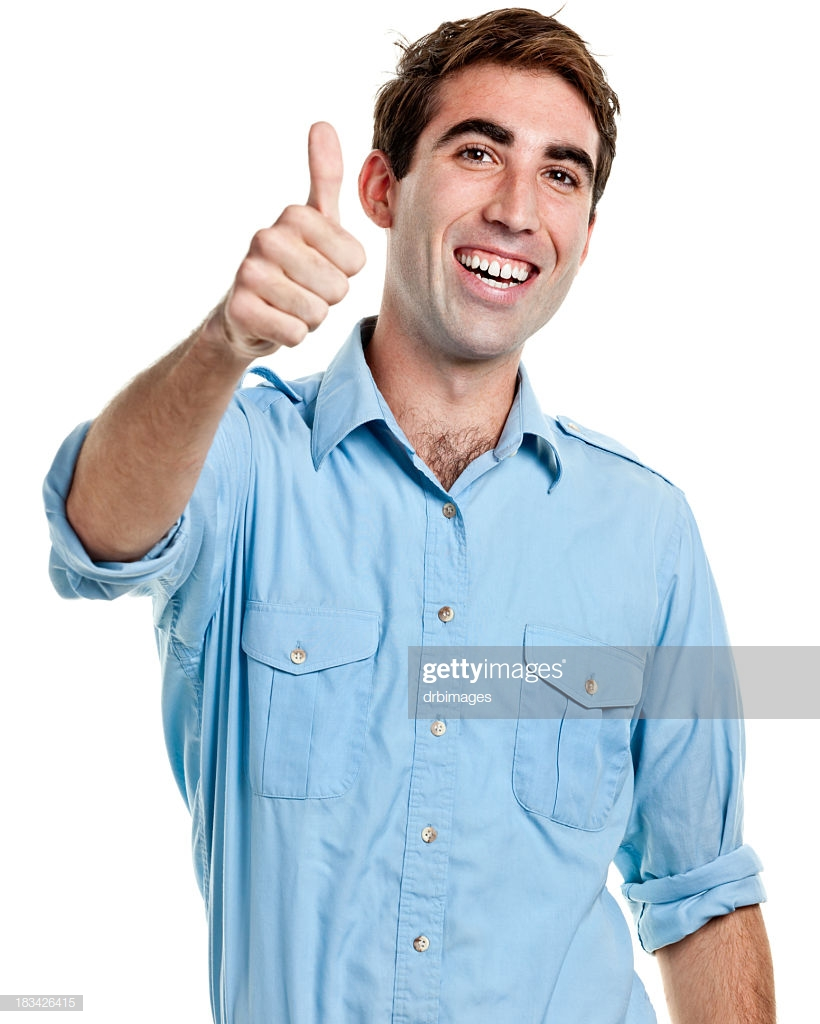thumbsup: (224, 120, 367, 348)
